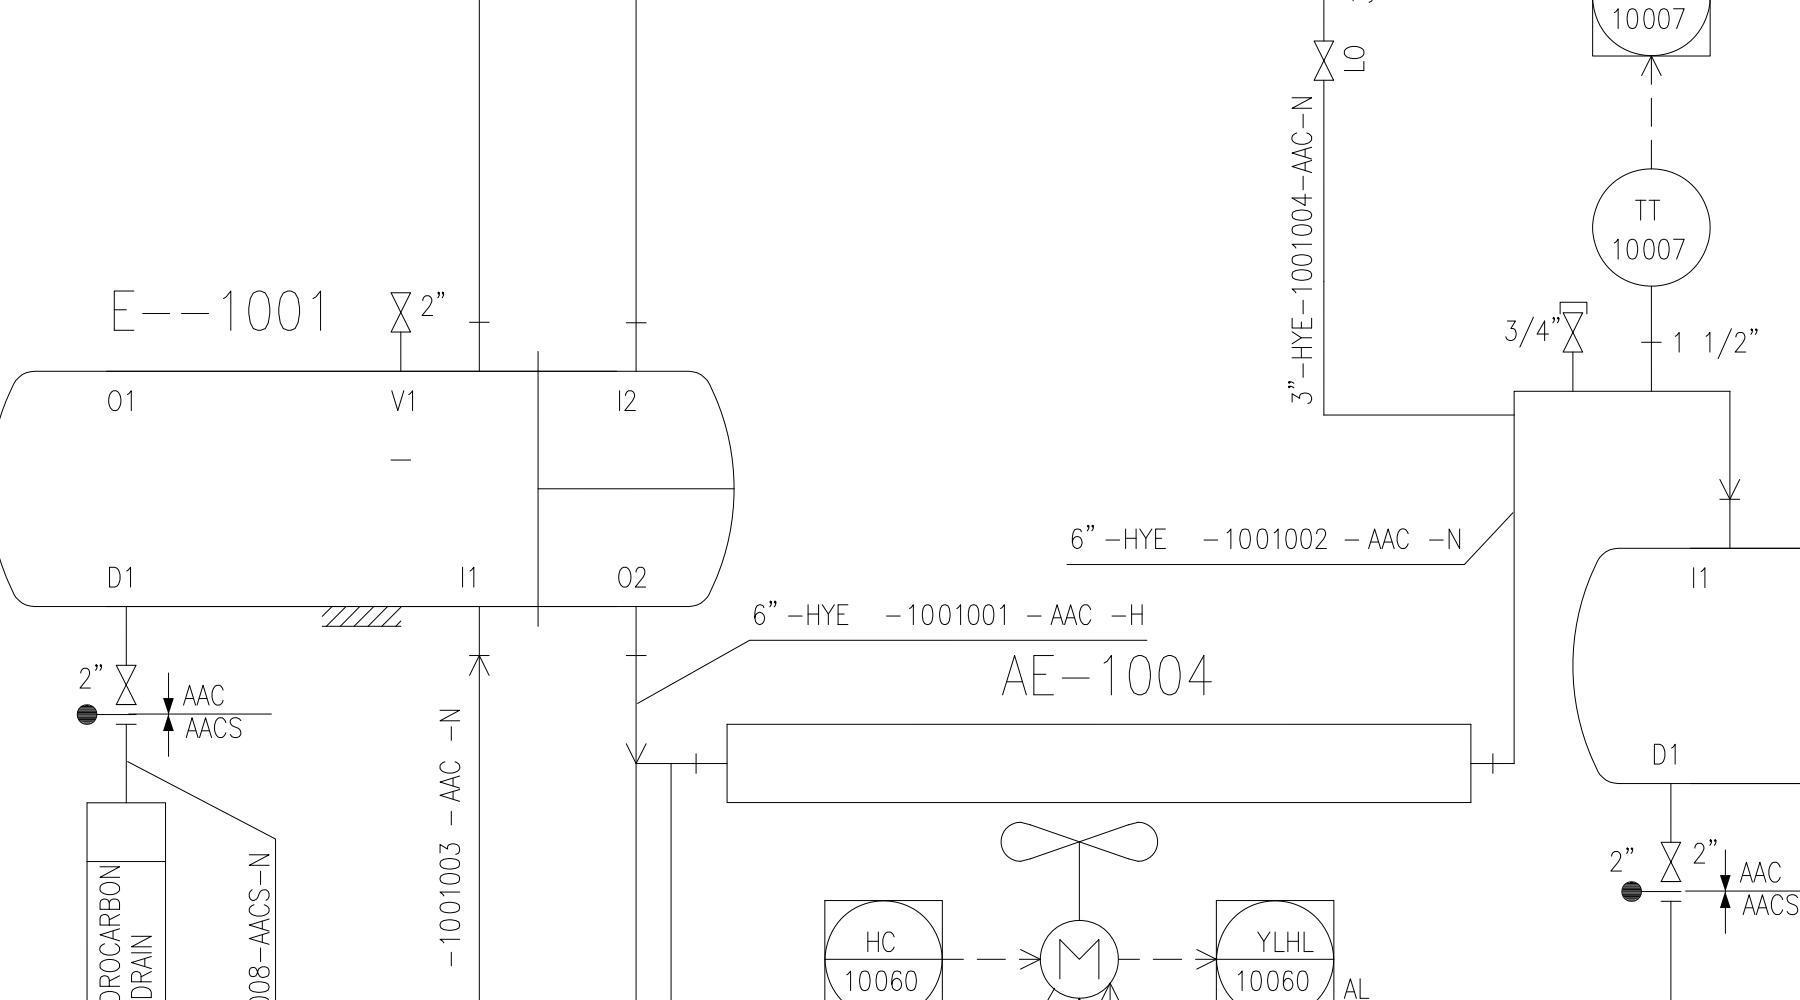AE: (694, 711, 1493, 1000)
E: (0, 360, 746, 615)
EC: (1550, 297, 1597, 382)
GV: (383, 286, 416, 337), (1655, 834, 1684, 884), (1559, 307, 1587, 357), (1310, 36, 1336, 87), (112, 660, 139, 708)
